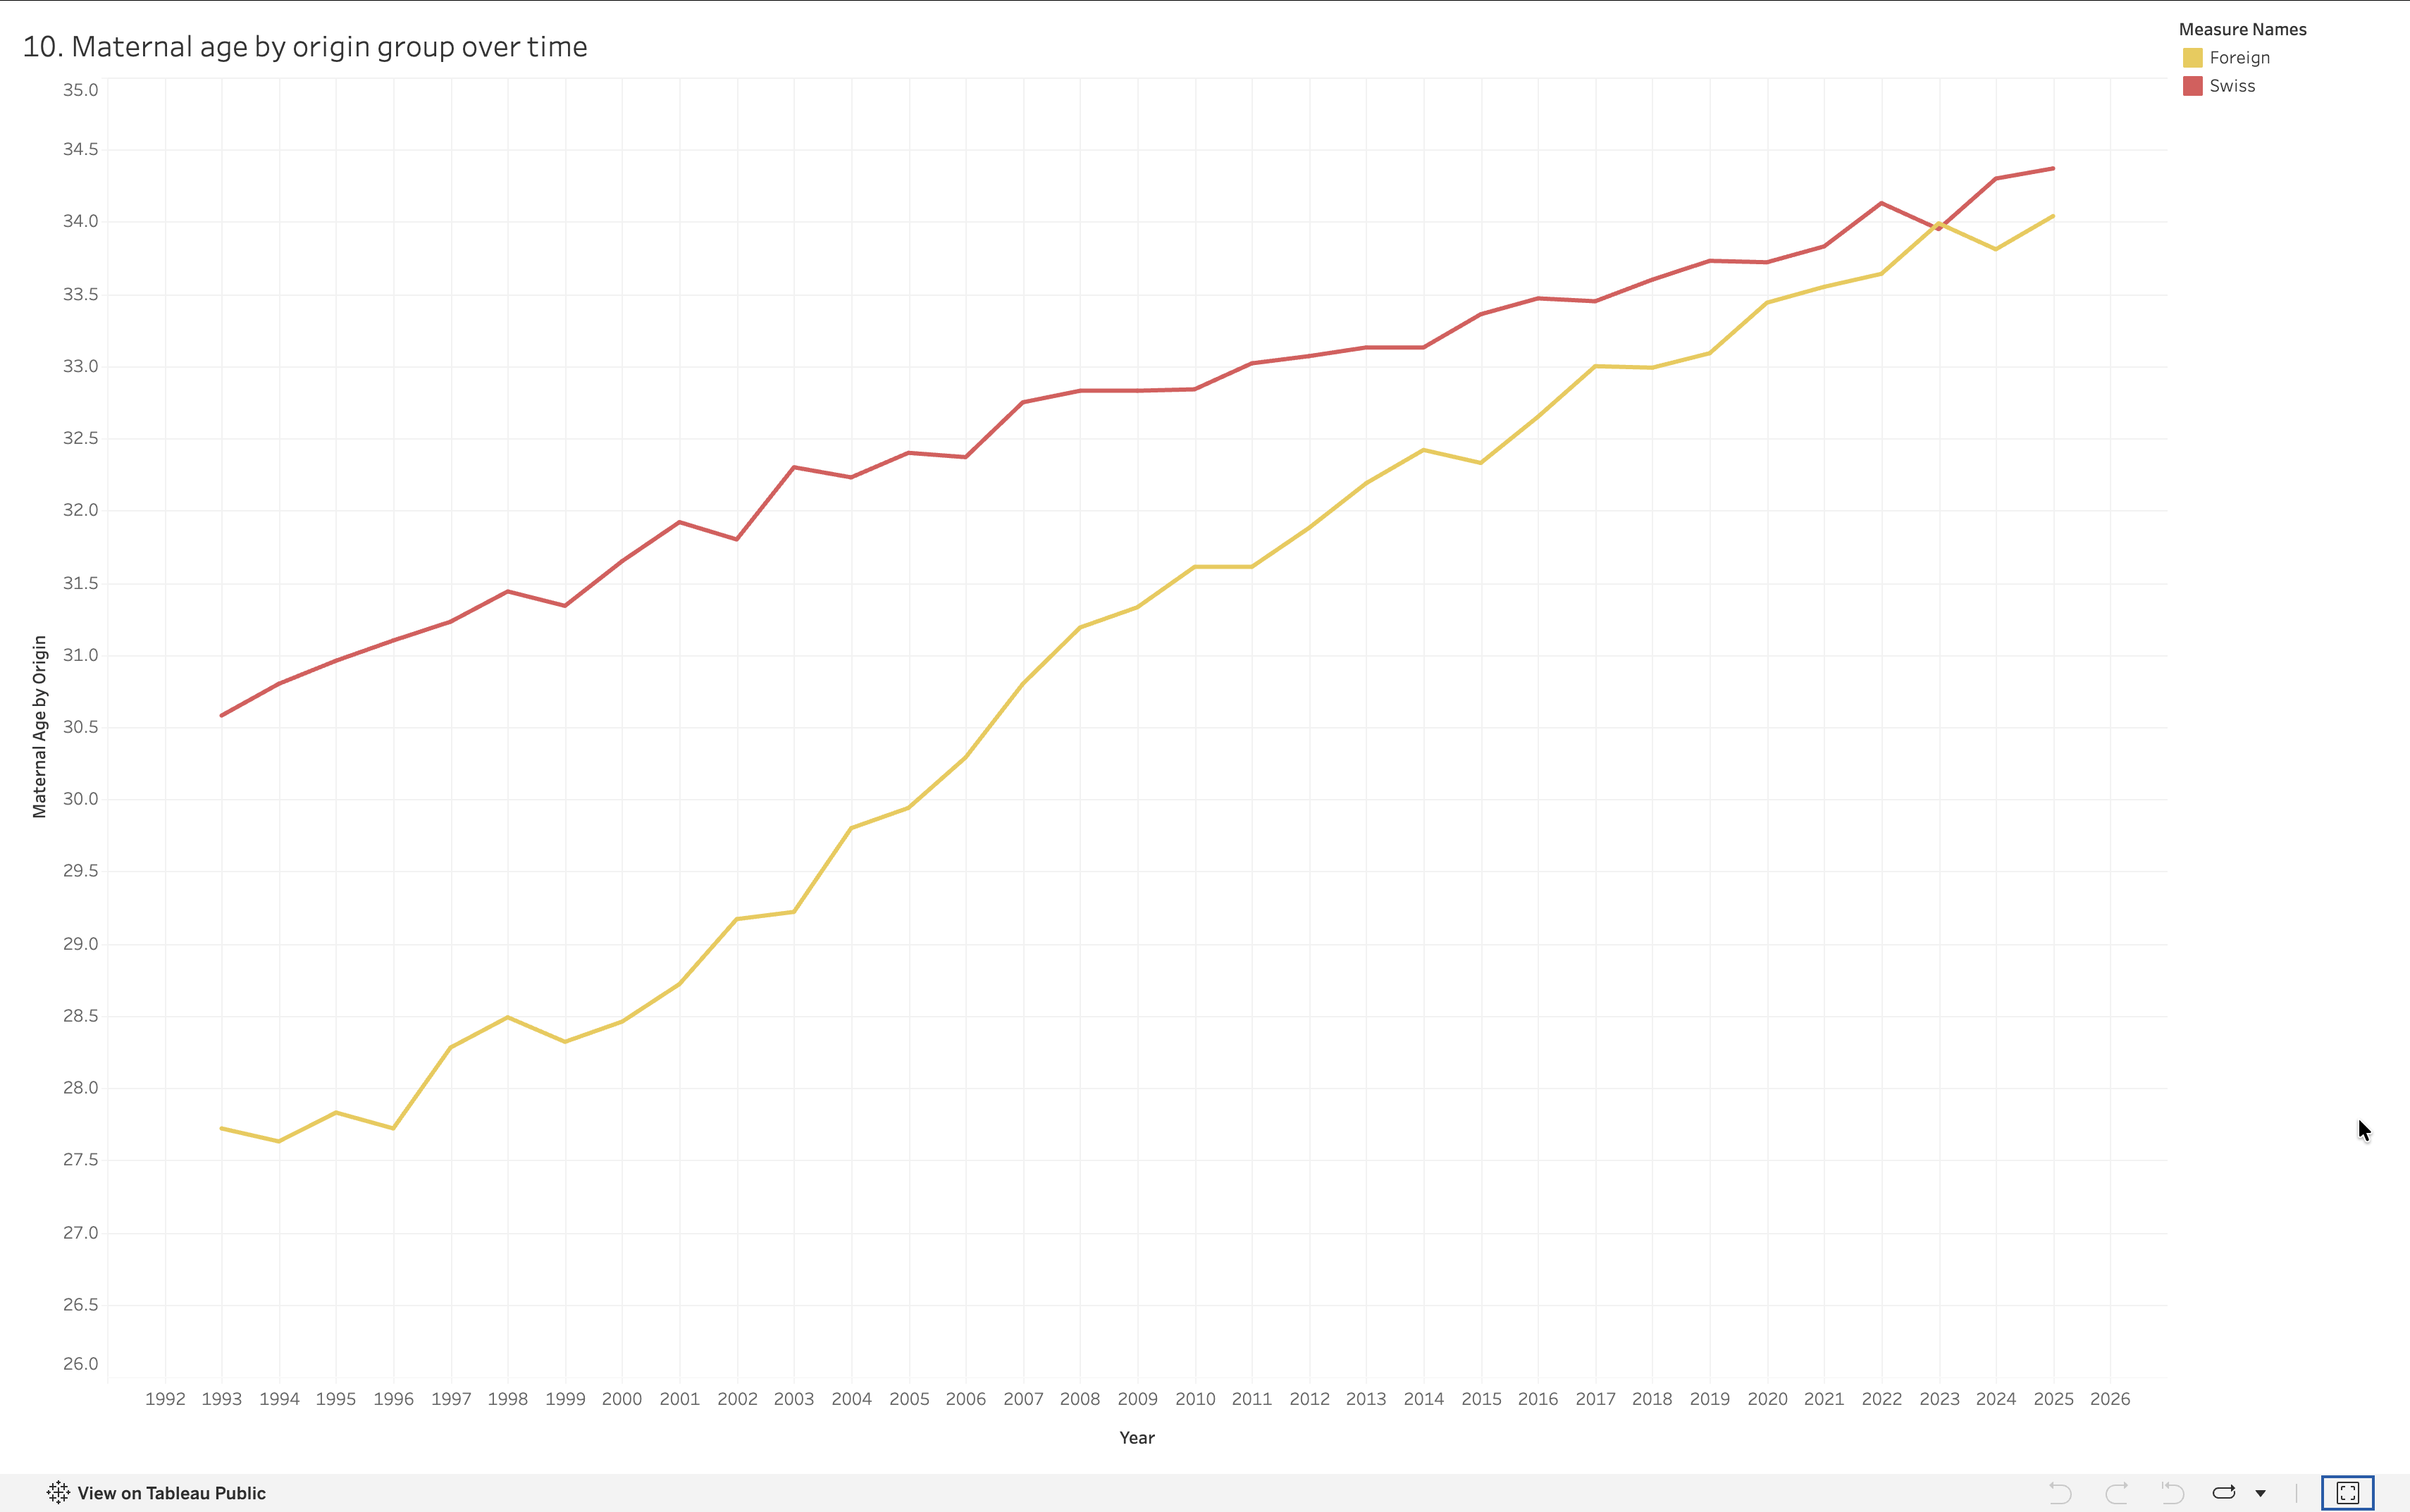

The dashboard page shown, as its layout file describes it:
{"tool":"tableau","page":{"name":"Stadt Zurich Births: Analysis 10","canvas":[1000,1000],"units":"permille","ordinal":1},"visuals":[{"type":"worksheet","title":"10. Maternal age by origin group over time","mark":"Automatic","cols":["year"],"box":[5.3,9,882.6,982]},{"type":"legend","title":"10. Maternal age by origin group over time","param":"[federated.1adty0e1u2nhtk1b8tdvm0ex3y7c].[:Measure Names]","box":[887.9,9,106.7,74.3]}]}

Visuals, with their boxes on the dashboard's canvas, which has no fixed pixel size, in thousandths of its width and height (x1, y1, x2, y2). These are canvas units, not pixel positions in the 2410x1512 screenshot, which may show the page scaled, cropped or inside an application window:
"10. Maternal age by origin group over time" worksheet: detection(5, 9, 888, 991)
"10. Maternal age by origin group over time" legend: detection(888, 9, 995, 83)
